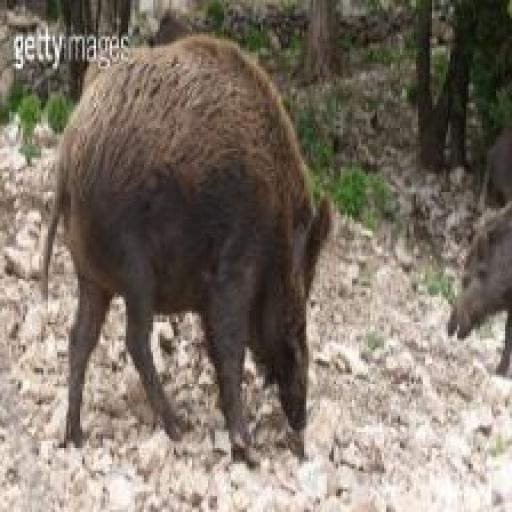Pig: (36, 39, 332, 476), (441, 188, 512, 388)
